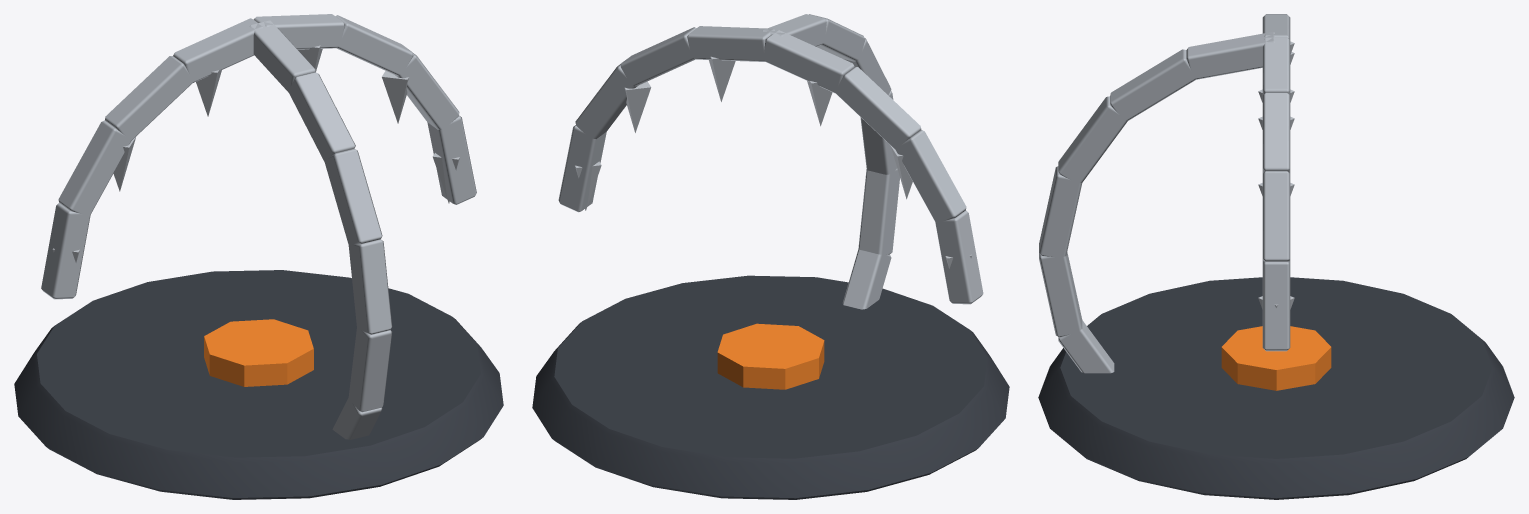
The model's file is quake_trap.glb.
3 renders of one model, left to right at view 1: azimuth 30°, elevation 25°; view 2: azimuth 150°, elevation 25°; view 3: azimuth 270°, elevation 25°, orthographic. The views are drawn at different scales.
Parts seen in each view (by area): view 1: plate, trigger, jaw_b_5, jaw_a_6, jaw_a_5, jaw_b_4, jaw_a_7, jaw_b_6, jaw_b_3, jaw_a_4, jaw_a_0, jaw_a_2 (+6 smaller); view 2: plate, trigger, jaw_a_6, jaw_a_5, jaw_a_7, jaw_a_4, jaw_b_3, jaw_a_3, jaw_a_0, jaw_a_2, jaw_a_1, jaw_b_2 (+7 smaller); view 3: plate, trigger, jaw_b_6, jaw_b_5, jaw_b_7, jaw_a_1, jaw_a_0, jaw_b_4, jaw_b_3, jaw_a_2, jaw_b_2, jaw_a_3 (+1 smaller).
Boxes of the visible parts, <box> form: plate: <box>14,270,503,499</box>; trigger: <box>204,319,313,386</box>; jaw_b_5: <box>325,148,382,244</box>; jaw_a_6: <box>58,120,131,216</box>; jaw_a_5: <box>105,56,192,140</box>; jaw_b_4: <box>348,239,392,334</box>; jaw_a_7: <box>41,203,90,299</box>; jaw_b_6: <box>289,72,355,163</box>; jaw_b_3: <box>348,326,392,412</box>; jaw_a_4: <box>173,18,262,82</box>; jaw_a_0: <box>427,115,476,204</box>; jaw_a_2: <box>335,15,413,75</box>; plate: <box>532,275,1009,499</box>; trigger: <box>717,323,824,389</box>; jaw_a_6: <box>895,130,966,223</box>; jaw_a_5: <box>834,67,921,149</box>; jaw_a_7: <box>935,210,983,304</box>; jaw_a_4: <box>763,30,854,93</box>; jaw_b_3: <box>858,168,899,254</box>; jaw_a_3: <box>687,26,774,61</box>; jaw_a_0: <box>558,125,606,212</box>; jaw_a_2: <box>620,27,696,86</box>; jaw_a_1: <box>575,64,637,138</box>; jaw_b_2: <box>843,249,891,309</box>; plate: <box>1038,277,1514,499</box>; trigger: <box>1221,326,1331,390</box>; jaw_b_6: <box>1110,49,1195,120</box>; jaw_b_5: <box>1058,96,1127,183</box>; jaw_b_7: <box>1186,32,1275,79</box>; jaw_a_1: <box>1262,171,1290,261</box>; jaw_a_0: <box>1262,261,1290,351</box>; jaw_b_4: <box>1039,166,1082,257</box>; jaw_b_3: <box>1039,252,1082,337</box>; jaw_a_2: <box>1262,92,1290,173</box>; jaw_b_2: <box>1058,320,1114,373</box>; jaw_a_3: <box>1262,37,1290,94</box>.
Size of the model in its own units: 0.52 by 0.5185 by 0.52.
